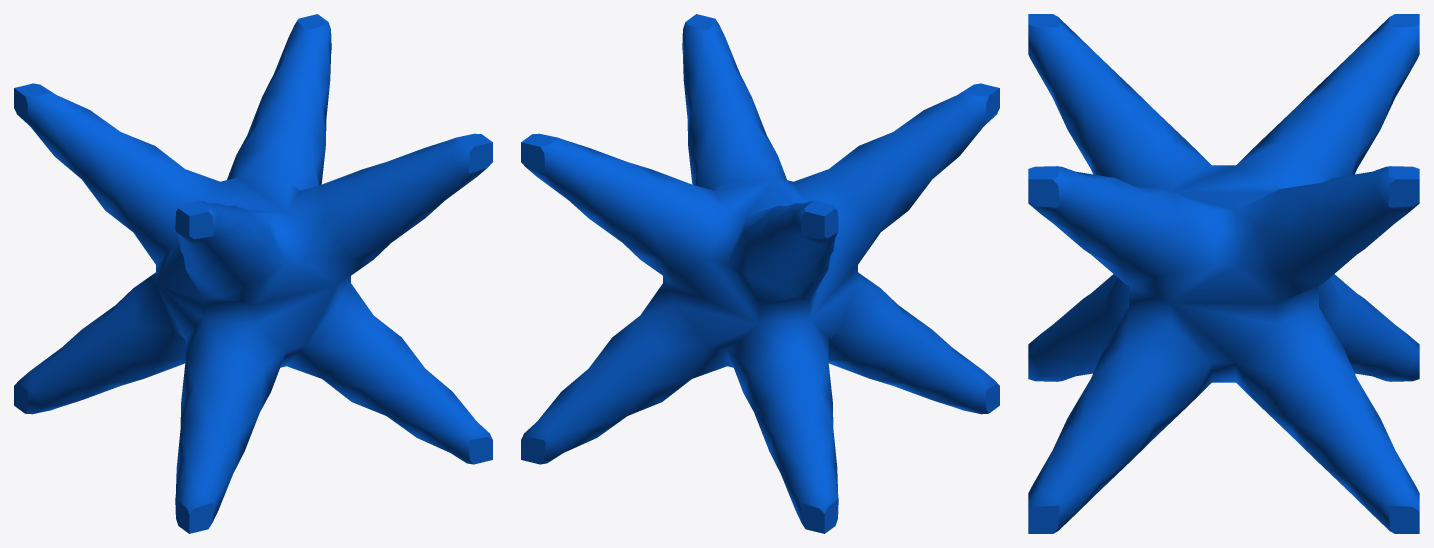
Rendered from Variation3.glb.
3 renders of one model, left to right at view 1: azimuth 30°, elevation 25°; view 2: azimuth 150°, elevation 25°; view 3: azimuth 270°, elevation 25°, orthographic. The views are drawn at different scales.
Parts seen in each view (by area): view 1: Mesh_0.009; view 2: Mesh_0.009; view 3: Mesh_0.009.
Boxes of the visible parts, x1,y1,x2,y2 form: Mesh_0.009: (14, 14, 492, 533); Mesh_0.009: (521, 14, 999, 533); Mesh_0.009: (1028, 14, 1419, 533).
Bounding box in the file's own units: 1 × 1 × 1.
